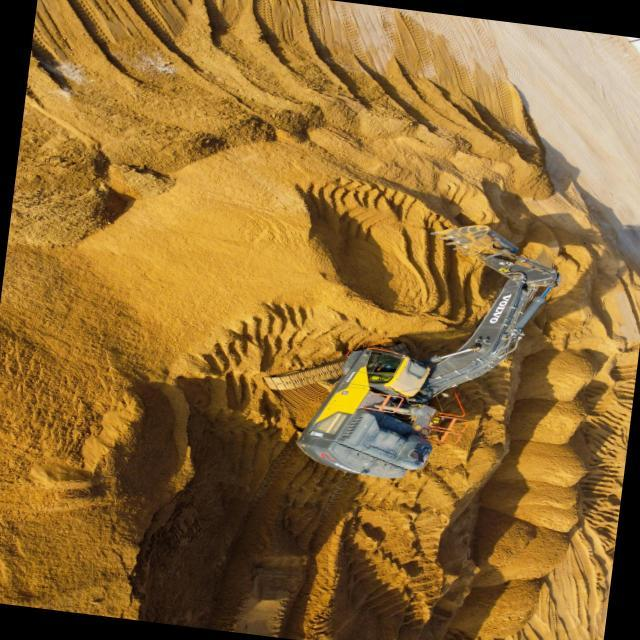excavator: (263, 224, 559, 478)
